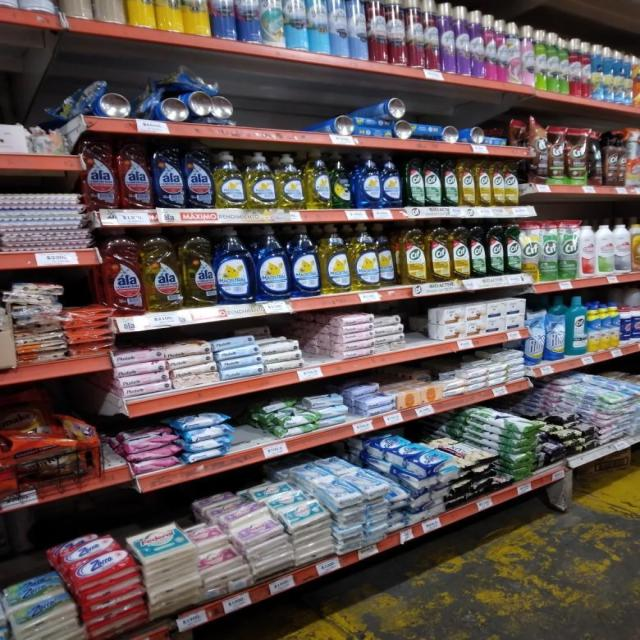ala_conc_amarillo: (144, 225, 180, 312), (181, 225, 215, 308)
ala_conc_azul: (152, 143, 184, 210), (185, 144, 213, 210)
ala_conc_rojo: (98, 226, 142, 315), (81, 140, 118, 210), (118, 140, 152, 210)
ala_crem_amarillo: (124, 0, 152, 28), (154, 0, 173, 31), (632, 218, 640, 271)
ala_crem_blanco: (92, 0, 122, 23)
cif_conc_bot_amarilla: (398, 220, 426, 284), (427, 218, 450, 282), (451, 218, 469, 280), (460, 160, 475, 207), (476, 160, 491, 207), (504, 162, 518, 206), (491, 161, 504, 207)
cif_conc_botella_verde: (487, 219, 504, 276), (470, 218, 486, 278), (405, 157, 424, 207), (505, 219, 521, 275), (425, 159, 441, 207), (443, 160, 458, 207)
cif_conc_sachet_amarillo: (522, 220, 538, 279)
cif_conc_sachet_verde: (559, 220, 578, 279), (540, 219, 558, 281)
magistral_con_amarillo: (321, 223, 349, 294), (350, 223, 377, 290), (245, 152, 275, 210), (215, 151, 244, 210), (276, 153, 304, 211), (304, 150, 330, 211), (378, 222, 396, 287)
magistral_con_azul: (216, 227, 252, 304), (255, 226, 288, 301), (290, 225, 319, 297), (353, 152, 380, 209), (331, 151, 352, 210), (381, 154, 403, 208)
magistral_con_crema: (579, 224, 596, 276)
